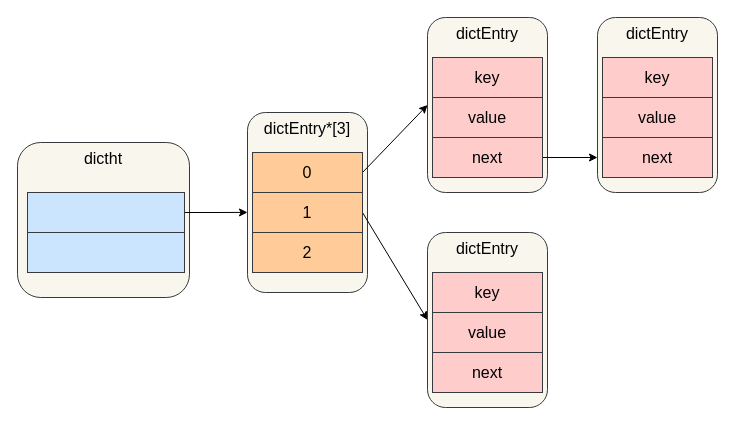
Some shapes in this 735 by 425 pixel diagram are drawn without their labels. Each missing label, with the centre of its shape:
size 3: (105,252)
table: (105,212)
